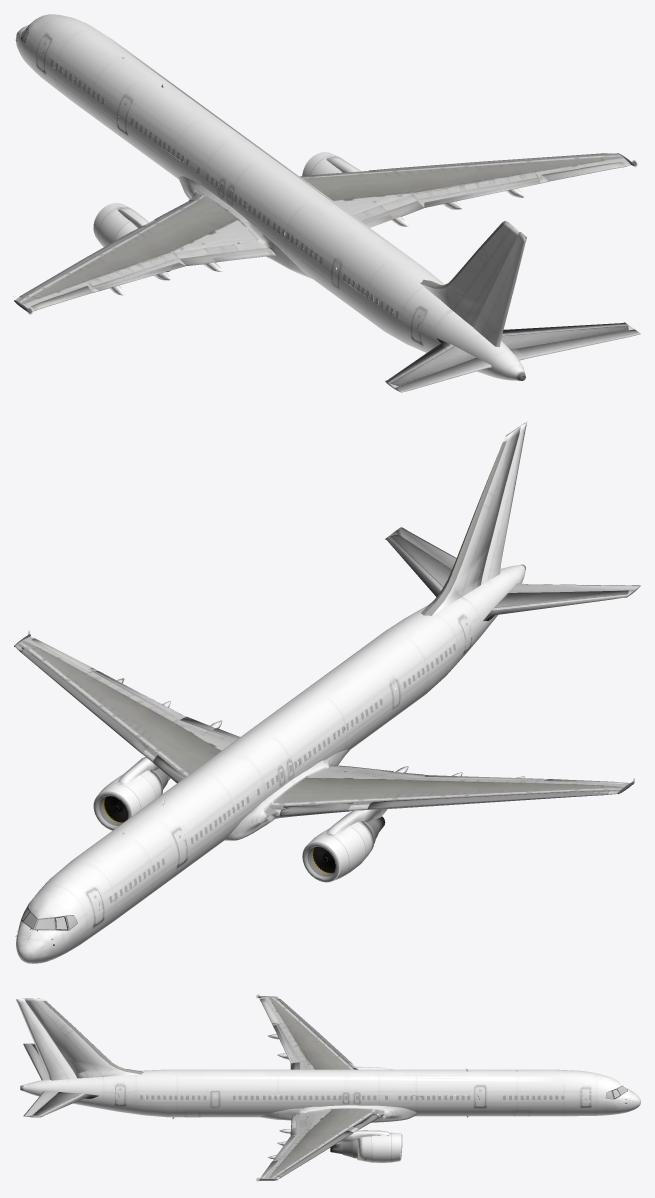
3 renders of one model, top to bottom at view 1: azimuth 30°, elevation 25°; view 2: azimuth 150°, elevation 25°; view 3: azimuth 270°, elevation 25°, orthographic. The views are drawn at different scales.
Visible parts, largest first — view 1: rootNode; view 2: rootNode; view 3: rootNode.
Part boxes in pixels (x1,y1,x2,y2): rootNode: (14, 14, 640, 392); rootNode: (14, 421, 640, 963); rootNode: (16, 994, 640, 1181).
Bounding box in the file's own units: 37.2 × 12.34 × 53.45.
Materials: 8 (6 with a texture image).
